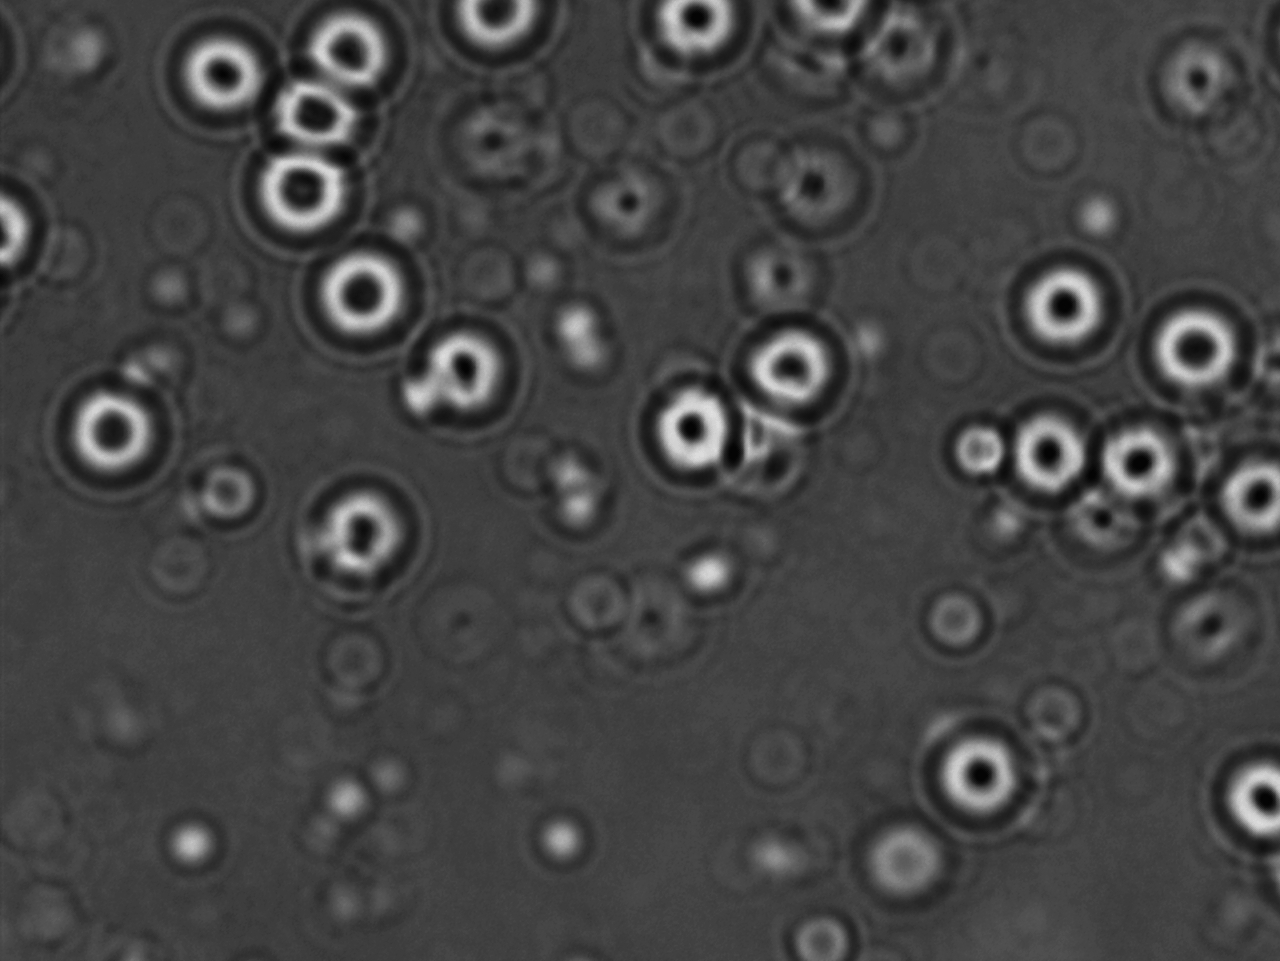depth:16: (998, 237, 1135, 370), (398, 312, 526, 449), (257, 49, 389, 181), (1133, 285, 1267, 412), (47, 369, 166, 509), (227, 131, 359, 251), (916, 715, 1039, 843), (728, 308, 856, 427), (293, 242, 423, 359), (158, 11, 279, 136), (635, 369, 759, 487), (996, 390, 1107, 511), (1087, 415, 1197, 535), (1201, 740, 1280, 847), (1213, 445, 1280, 557)
